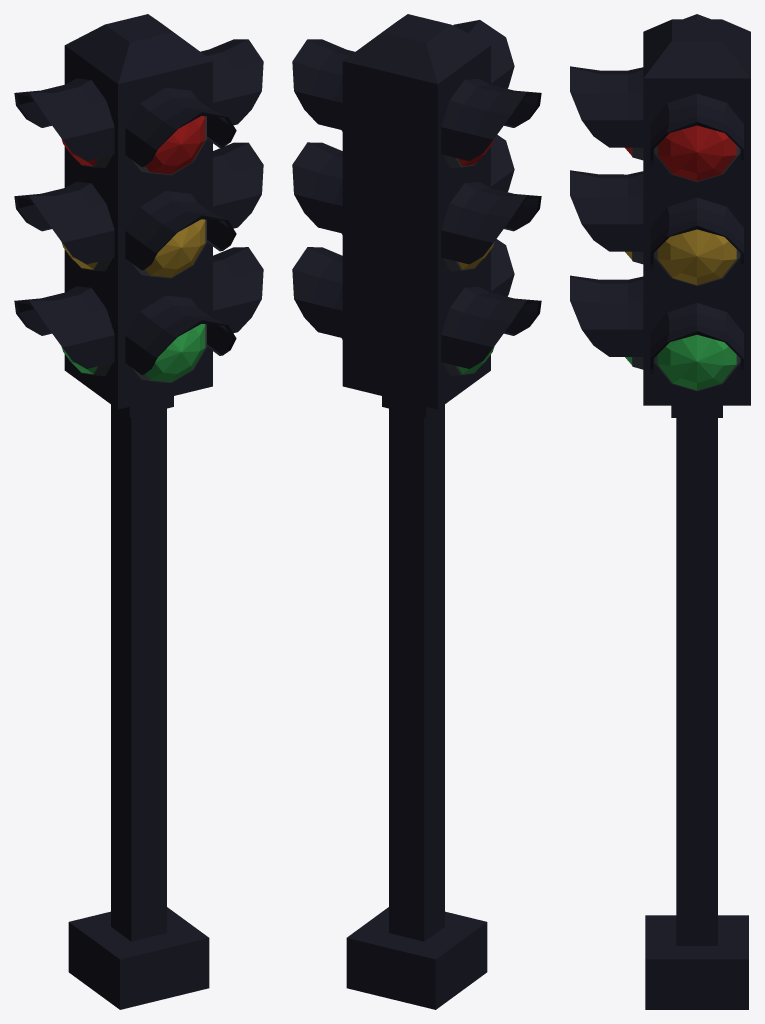
The model's file is TrafficLight_1.FBX.
The picture shows the model from 3 angles, left to right: view 1: azimuth 30°, elevation 25°; view 2: azimuth 150°, elevation 25°; view 3: azimuth 270°, elevation 25°; orthographic projection.
Parts seen in each view (by area): view 1: sinho_2; view 2: sinho_2; view 3: sinho_2.
Part boxes in pixels (x1,y1,x2,y2): sinho_2: (14,14,263,1009); sinho_2: (292,14,541,1009); sinho_2: (570,14,750,1009).
Bounding box in the file's own units: 160 × 663 × 113.
